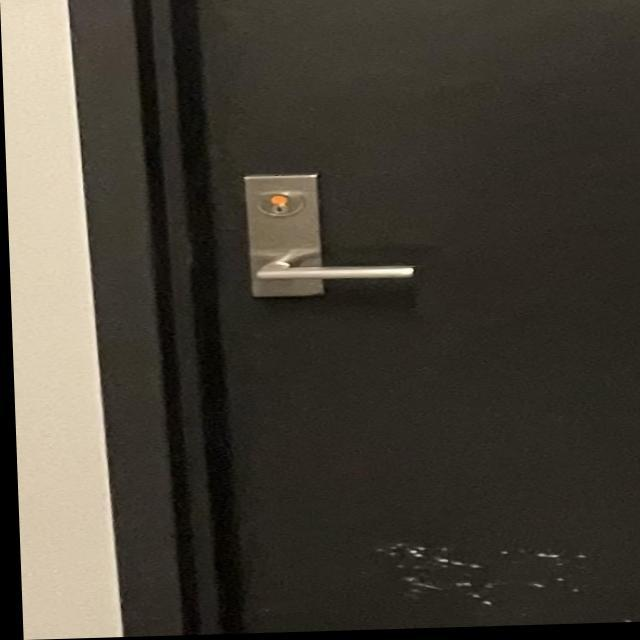door_handle: (216, 236, 437, 304)
